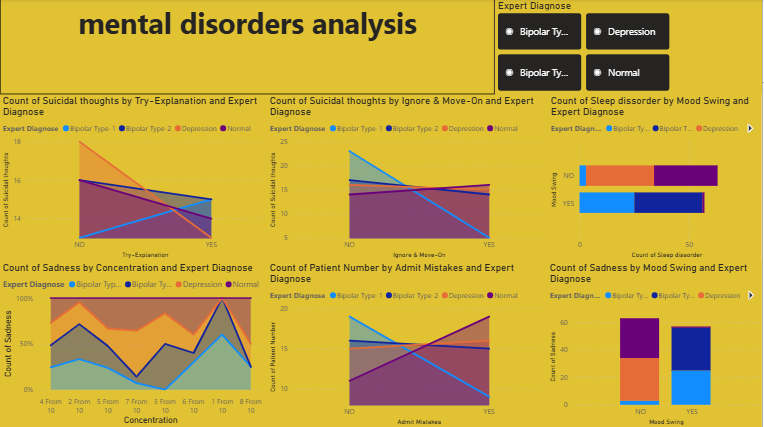

The dashboard page shown, as its layout file describes it:
{"tool":"powerbi","page":{"name":"Page 1","canvas":[1280,720],"ordinal":0},"visuals":[{"type":"hundredPercentStackedAreaChart","fields":{"Category":["mental_disorders_dataset (3).Concentration"],"Y":["CountNonNull(mental_disorders_dataset (3).Sadness)"],"Series":["mental_disorders_dataset (3).Expert Diagnose"]},"box":[0,440.1,448.5,280.5],"z":0},{"type":"areaChart","fields":{"Category":["mental_disorders_dataset (3).Admit Mistakes"],"Y":["CountNonNull(mental_disorders_dataset (3).Patient Number)"],"Series":["mental_disorders_dataset (3).Expert Diagnose"]},"box":[448.5,440.1,472,280.5],"z":1},{"type":"areaChart","fields":{"Category":["mental_disorders_dataset (3).Try-Explanation"],"Series":["mental_disorders_dataset (3).Expert Diagnose"],"Y":["CountNonNull(mental_disorders_dataset (3).Suicidal thoughts)"]},"box":[0,159.6,448.5,280.5],"z":2},{"type":"areaChart","fields":{"Category":["mental_disorders_dataset (3).Ignore & Move-On"],"Y":["CountNonNull(mental_disorders_dataset (3).Suicidal thoughts)"],"Series":["mental_disorders_dataset (3).Expert Diagnose"]},"box":[448.5,159.6,472,280.5],"z":3},{"type":"lineStackedColumnComboChart","fields":{"Category":["mental_disorders_dataset (3).Mood Swing"],"Series":["mental_disorders_dataset (3).Expert Diagnose"],"Y":["CountNonNull(mental_disorders_dataset (3).Sadness)"]},"box":[918.8,440.1,361.2,280.5],"z":4},{"type":"barChart","fields":{"Y":["CountNonNull(mental_disorders_dataset (3).Sleep dissorder)"],"Category":["mental_disorders_dataset (3).Mood Swing"],"Series":["mental_disorders_dataset (3).Expert Diagnose"]},"box":[920.5,159.6,359.5,280.5],"z":5},{"type":"advancedSlicerVisual","fields":{"Values":["mental_disorders_dataset (3).Expert Diagnose"]},"box":[831.5,0,448.5,159.6],"z":6},{"type":"textbox","box":[0,0,831.5,159.6],"z":7}]}

Visuals, with their boxes in screenshot pixels (x1, y1, x2, y2), scaled from the page's 1280x720 canvas onto the 764x427 screenshot:
hundredPercentStackedAreaChart - mental_disorders_dataset (3).Concentration x CountNonNull(mental_disorders_dataset (3).Sadness): l=0, t=261, r=268, b=426
areaChart - mental_disorders_dataset (3).Admit Mistakes x CountNonNull(mental_disorders_dataset (3).Patient Number): l=268, t=261, r=549, b=426
areaChart - mental_disorders_dataset (3).Try-Explanation x mental_disorders_dataset (3).Expert Diagnose: l=0, t=95, r=268, b=261
areaChart - mental_disorders_dataset (3).Ignore & Move-On x CountNonNull(mental_disorders_dataset (3).Suicidal thoughts): l=268, t=95, r=549, b=261
lineStackedColumnComboChart - mental_disorders_dataset (3).Mood Swing x mental_disorders_dataset (3).Expert Diagnose: l=548, t=261, r=763, b=426
barChart - CountNonNull(mental_disorders_dataset (3).Sleep dissorder) x mental_disorders_dataset (3).Mood Swing: l=549, t=95, r=763, b=261
advancedSlicerVisual - mental_disorders_dataset (3).Expert Diagnose: l=496, t=0, r=763, b=95
textbox: l=0, t=0, r=496, b=95
